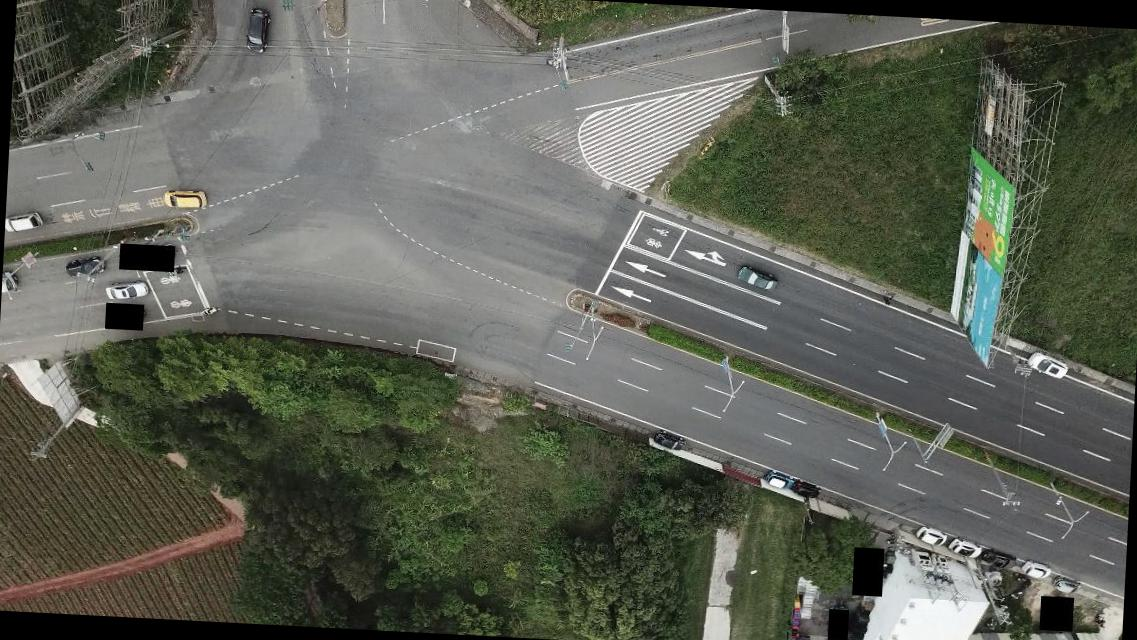vehicle: (244, 7, 270, 53), (1025, 351, 1067, 378), (733, 268, 778, 292), (64, 254, 104, 280), (162, 189, 208, 210), (104, 280, 150, 301), (4, 210, 44, 234), (947, 536, 981, 560), (981, 549, 1016, 571), (654, 431, 686, 452), (1021, 559, 1052, 580), (916, 526, 946, 546), (792, 481, 822, 500), (1051, 578, 1082, 596), (766, 473, 793, 490)
